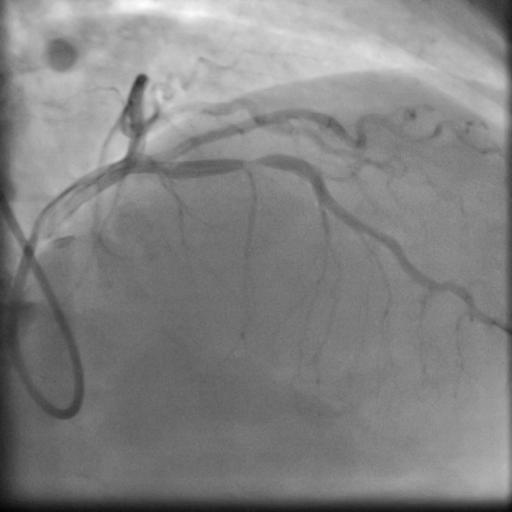Stenosis: (233, 150, 268, 174)
